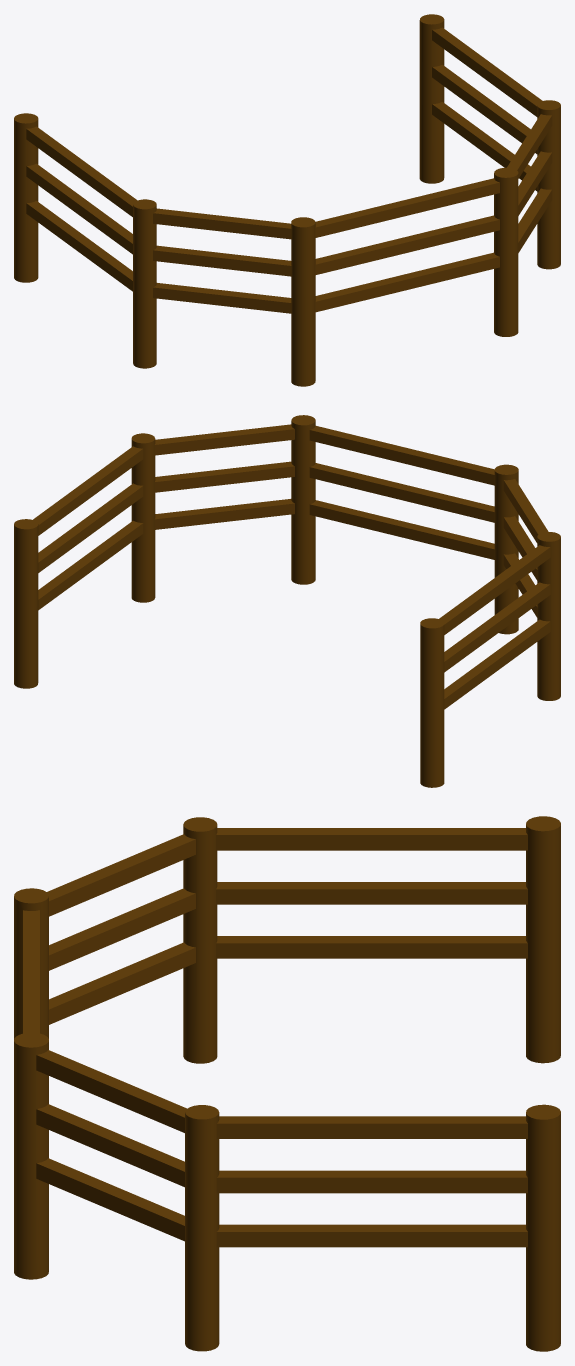
Rendered from Fence4x3.fbx.
The picture shows the model from 3 angles, top to bottom: view 1: azimuth 30°, elevation 25°; view 2: azimuth 150°, elevation 25°; view 3: azimuth 270°, elevation 25°; orthographic projection. The views are drawn at different scales.
Parts seen in each view (by area): view 1: Wood_mat Mesh (1); view 2: Wood_mat Mesh (1); view 3: Wood_mat Mesh (1).
Boxes of the visible parts, x1,y1,x2,y2 form: Wood_mat Mesh (1): (14, 14, 560, 386); Wood_mat Mesh (1): (14, 415, 560, 787); Wood_mat Mesh (1): (14, 816, 560, 1351).
Size of the model in its own units: 4.21 by 1.5 by 3.21.
